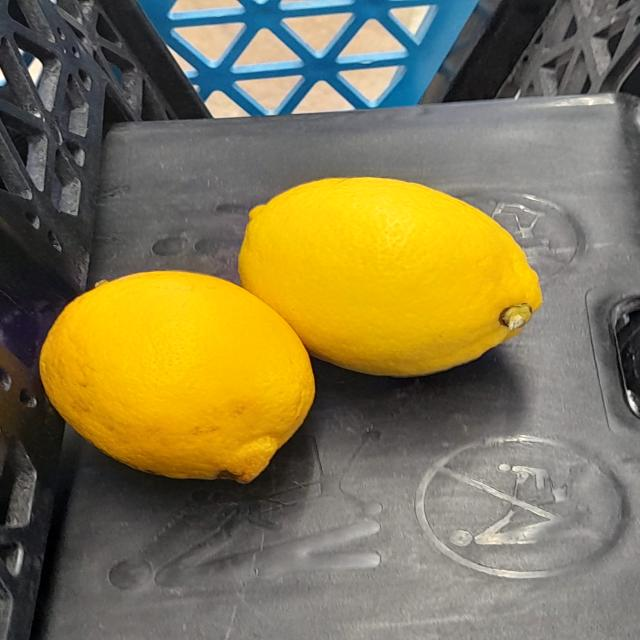lemon: (23, 257, 333, 494), (236, 165, 546, 384)
